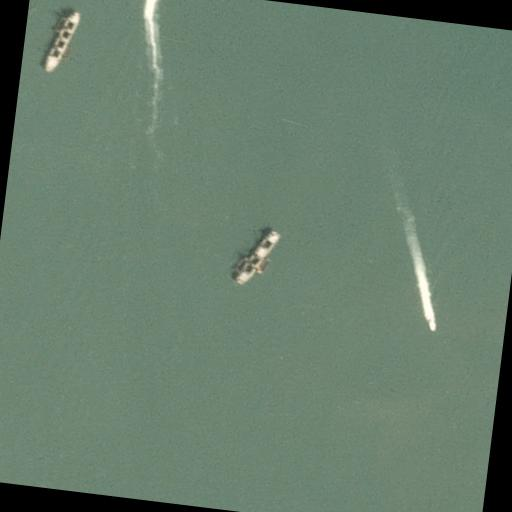ship: (232, 224, 280, 288), (42, 6, 82, 78), (426, 314, 438, 332)
